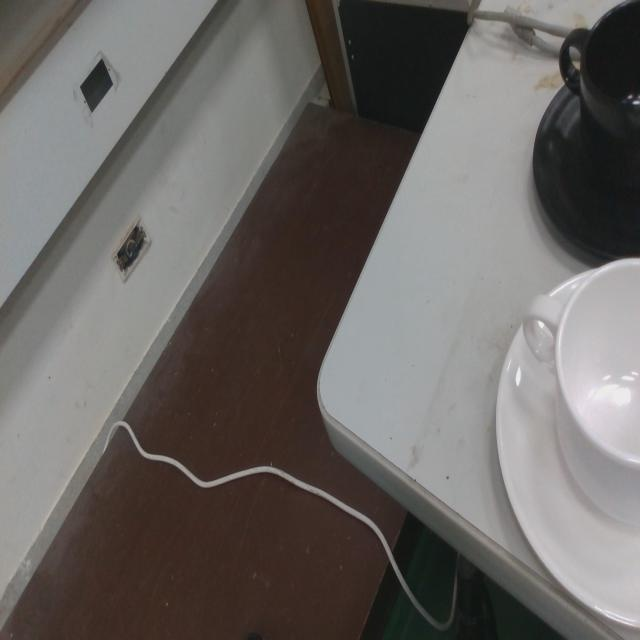black: (531, 0, 640, 263)
white: (491, 251, 640, 633)
